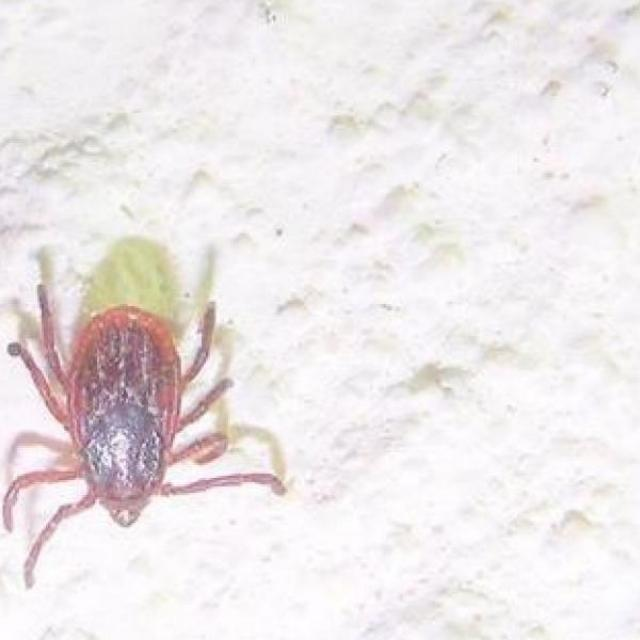Rhipicephalus Sanguineus-F: (3, 283, 288, 590)
